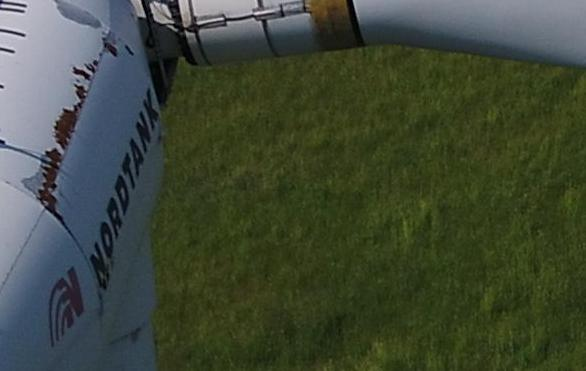damage: (38, 146, 62, 212), (52, 108, 78, 149), (72, 79, 88, 108), (72, 65, 92, 80), (104, 42, 118, 57), (92, 59, 99, 70)
